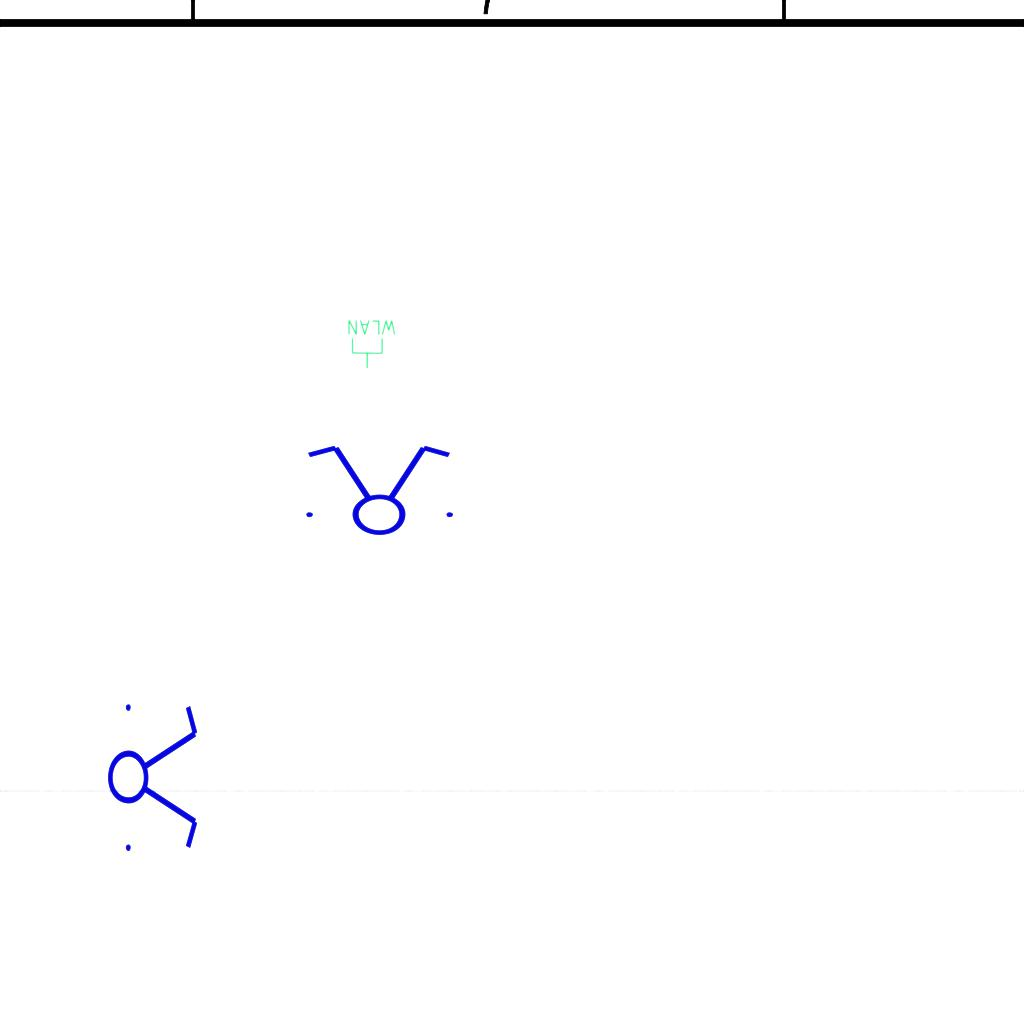Serienschalter: (294, 441, 462, 537), (106, 692, 202, 860)
WLAN: (346, 318, 398, 370)
